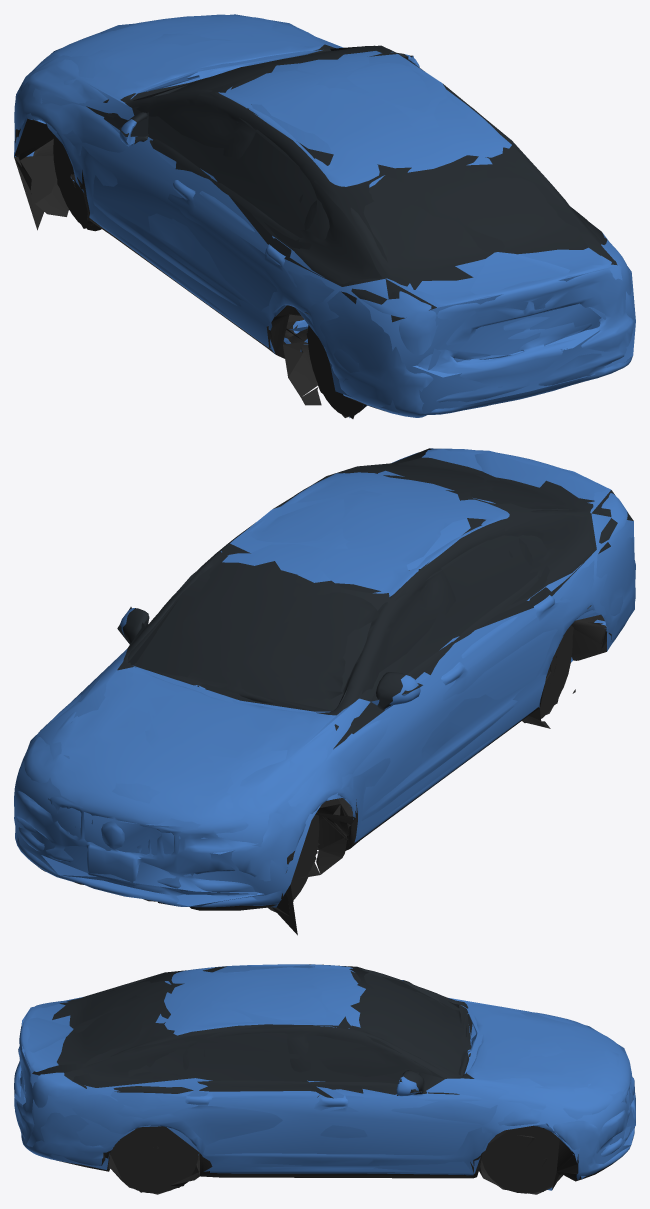
File: volvo-s90.glb
The picture shows the model from 3 angles, top to bottom: view 1: azimuth 30°, elevation 25°; view 2: azimuth 150°, elevation 25°; view 3: azimuth 270°, elevation 25°; orthographic projection. The views are drawn at different scales.
Parts seen in each view (by area): view 1: body, far; view 2: body, far; view 3: body, far.
Part boxes in pixels (bbox=[...]): body: bbox=[14, 14, 633, 417]; far: bbox=[14, 14, 635, 418]; body: bbox=[14, 448, 635, 915]; far: bbox=[14, 448, 634, 935]; body: bbox=[14, 964, 635, 1194]; far: bbox=[14, 964, 635, 1192].
Bounding box in the file's own units: 2.03 × 1.57 × 5.05.
